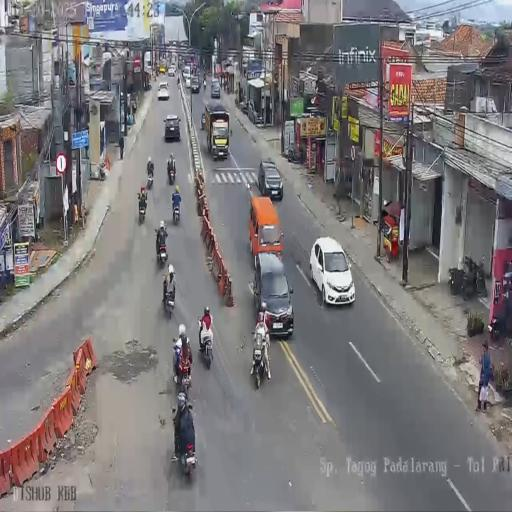3: (203, 102, 230, 159), (144, 50, 152, 74)
car: (253, 251, 294, 334), (309, 235, 356, 306), (248, 193, 281, 266), (257, 157, 283, 201), (164, 113, 181, 141), (158, 81, 170, 100), (210, 80, 220, 98), (191, 76, 200, 94), (184, 75, 191, 88), (168, 66, 175, 77), (159, 63, 166, 74)
truck: (176, 416, 196, 479), (250, 326, 270, 389), (198, 318, 215, 368), (177, 348, 192, 392), (162, 276, 175, 318), (155, 232, 167, 267), (286, 144, 303, 164), (138, 194, 147, 224), (172, 196, 181, 224), (167, 160, 176, 184), (146, 167, 154, 190), (176, 77, 180, 88), (203, 77, 206, 89)
